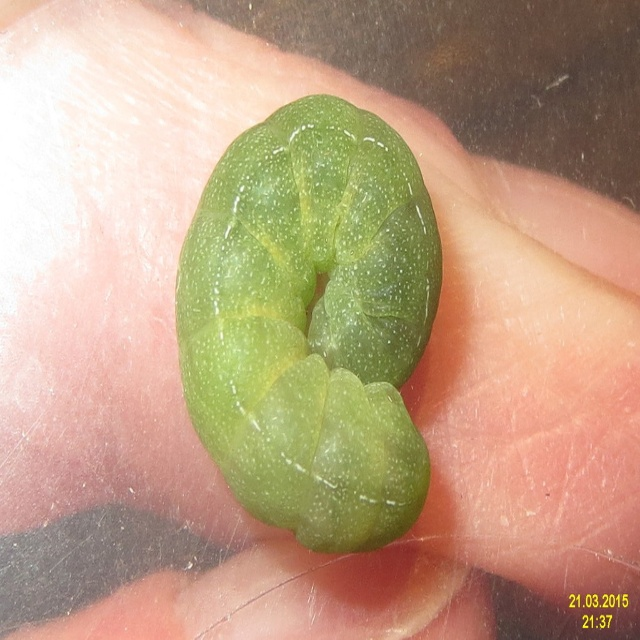Caterpillar: (176, 89, 444, 555)
